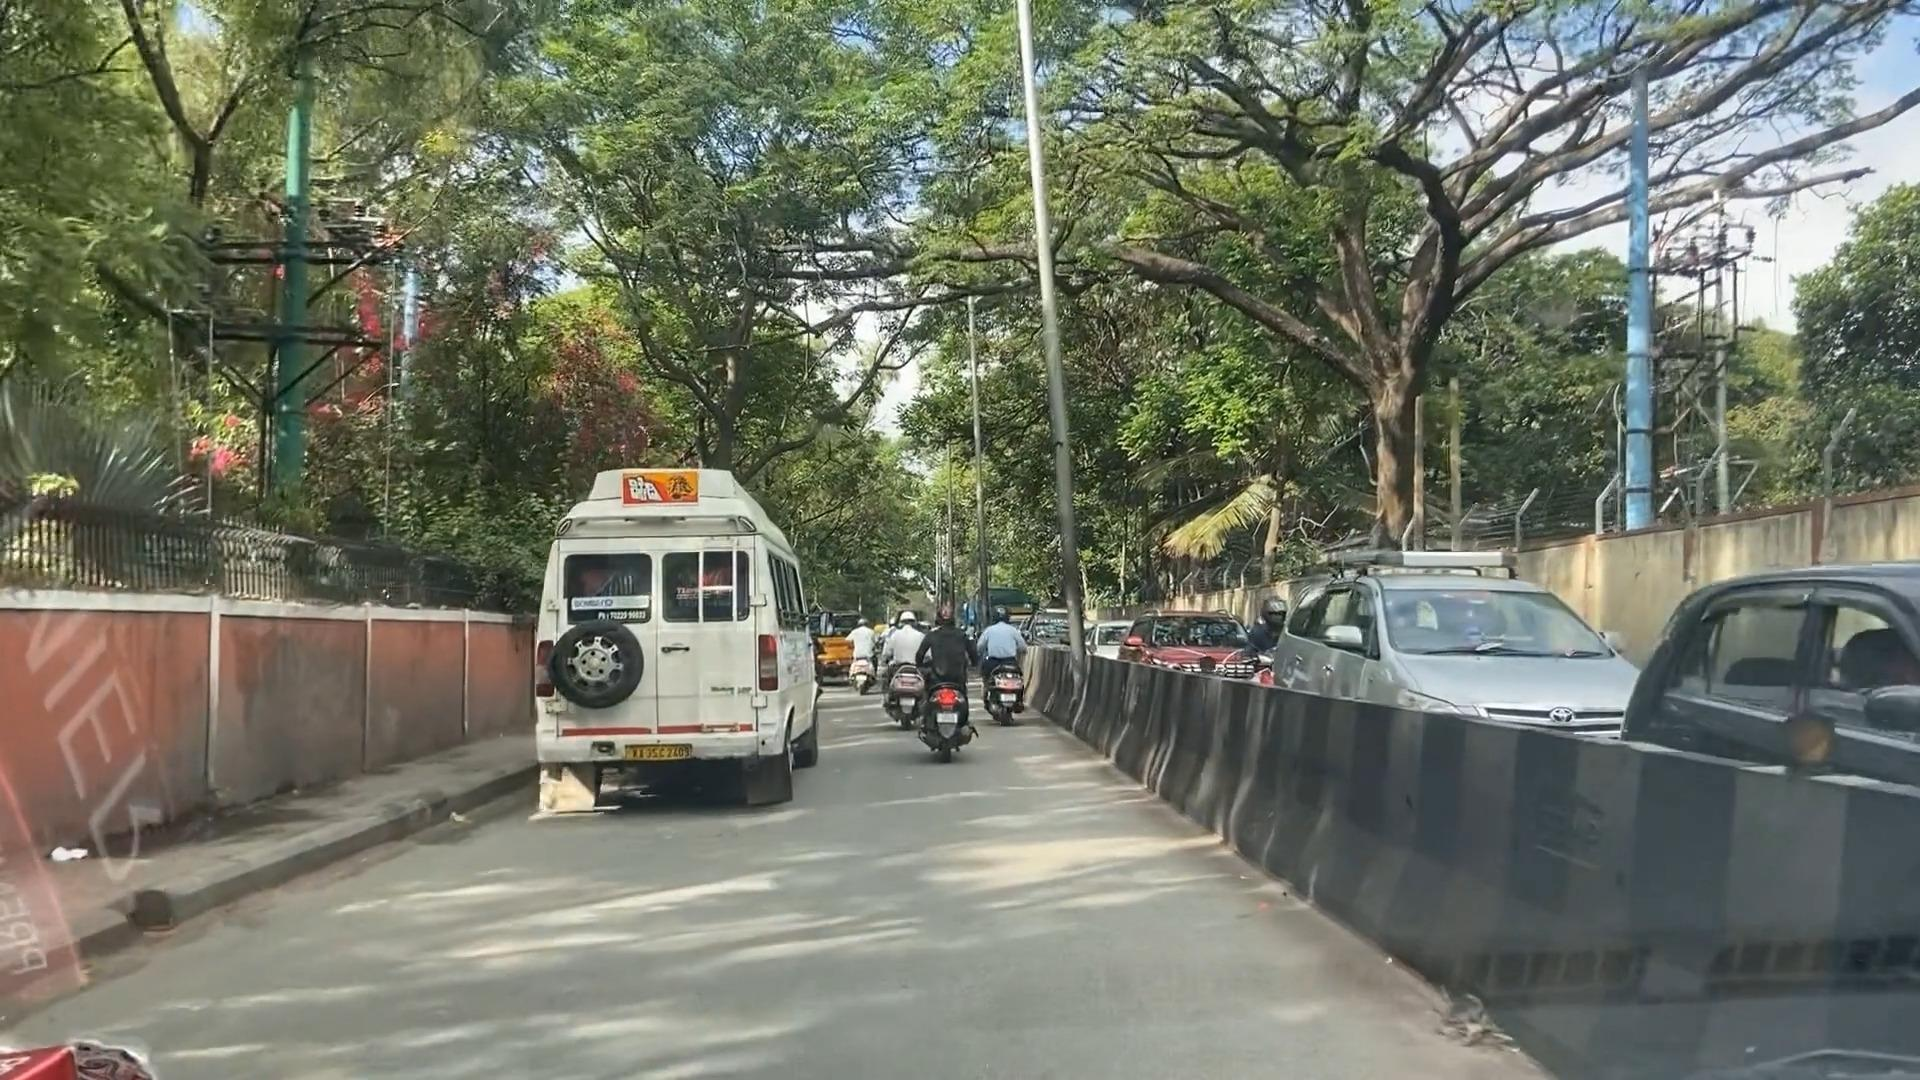HMV: (537, 454, 777, 811)
LMV: (982, 596, 1036, 729), (923, 607, 967, 756)
